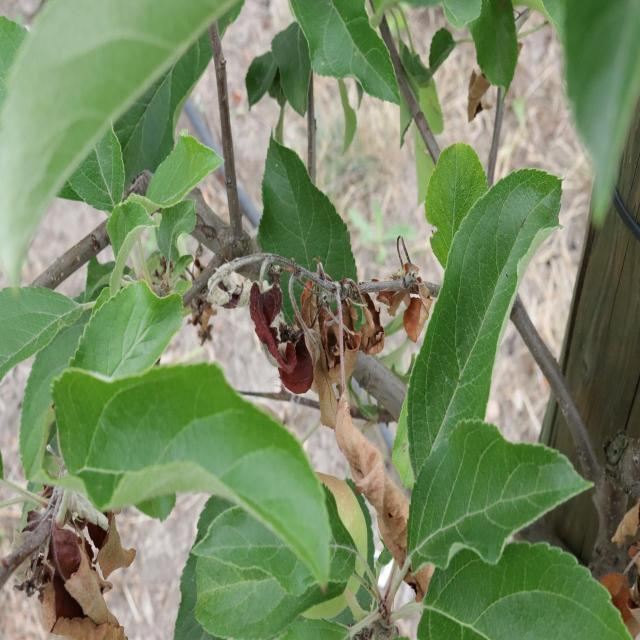-FireBlight-: (284, 364, 414, 550), (193, 266, 440, 359), (8, 501, 132, 639)
